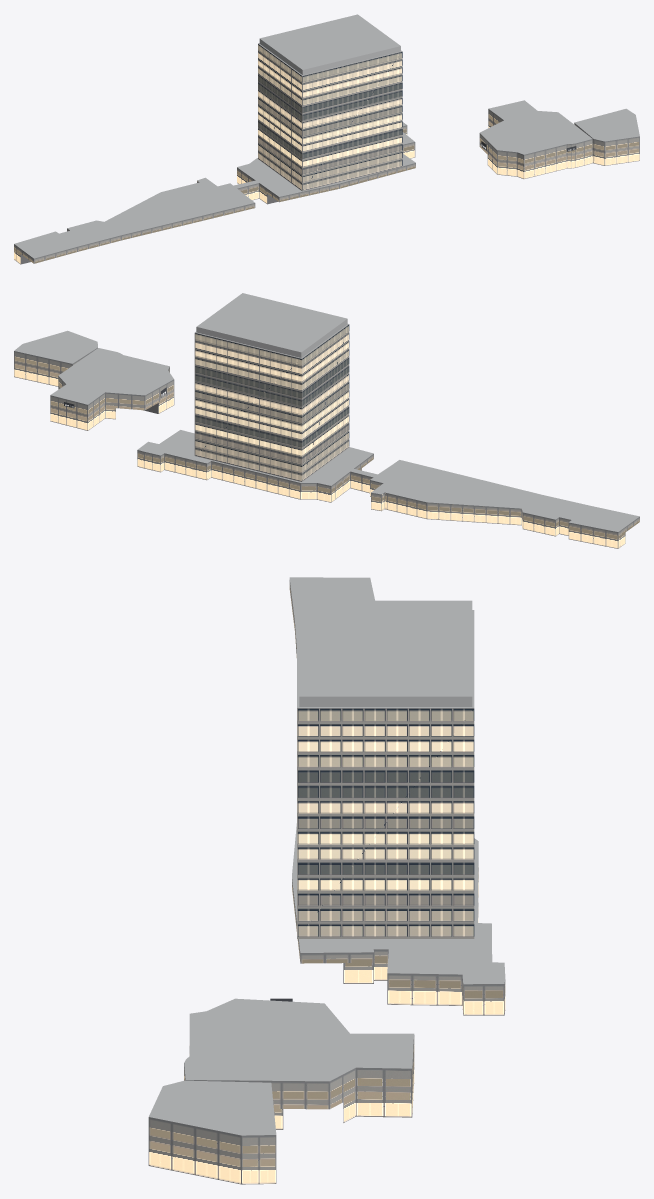
Rendered from meguro_station.glb.
The picture shows the model from 3 angles, top to bottom: view 1: azimuth 30°, elevation 25°; view 2: azimuth 150°, elevation 25°; view 3: azimuth 270°, elevation 25°; orthographic projection. The views are drawn at different scales.
Parts seen in each view (by area): view 1: MG_Station; view 2: MG_Station; view 3: MG_Station.
Boxes of the visible parts, x1=… form: MG_Station: x1=14, y1=14, x2=639, y2=264; MG_Station: x1=14, y1=293, x2=639, y2=548; MG_Station: x1=148, y1=577, x2=505, y2=1184.
Size of the model in its own units: 353 by 78 by 92.4.
Materials: 8 (3 with a texture image).
